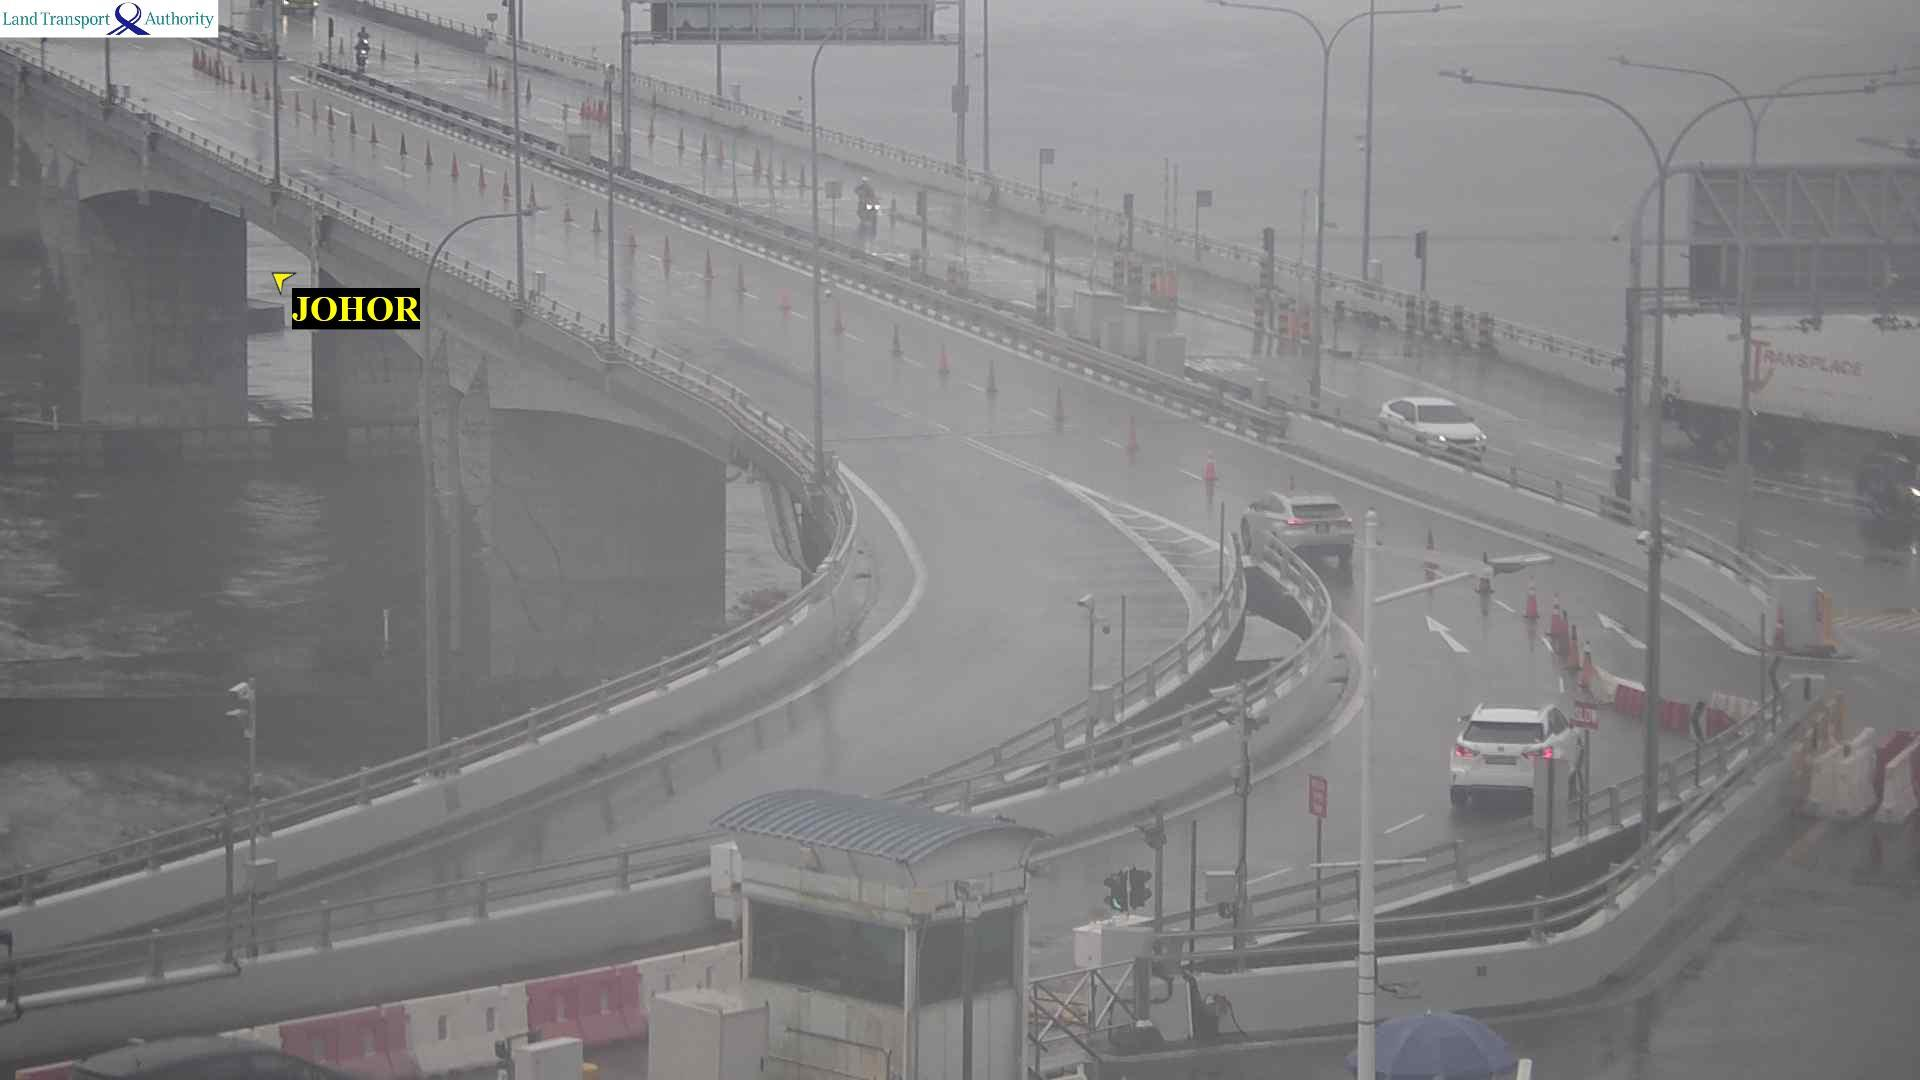vehicle-secondlink-johor: (1457, 702, 1581, 803), (1244, 493, 1354, 566)
vehicle-secondlink-singapore: (1381, 392, 1486, 464), (848, 175, 880, 229)
